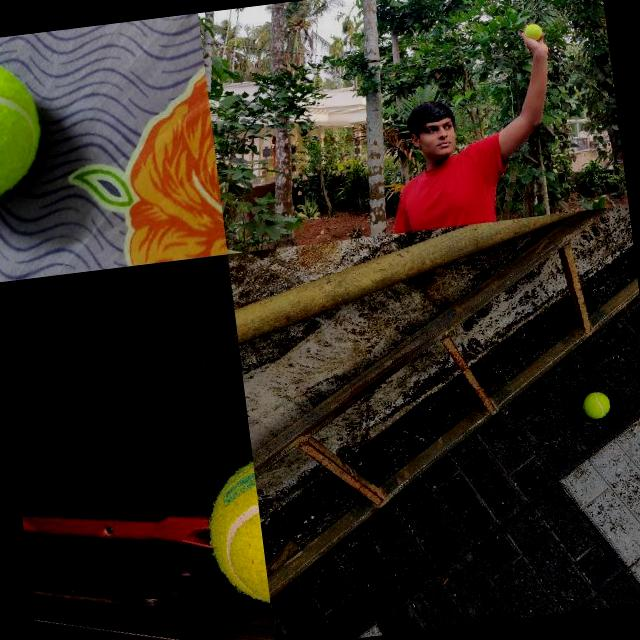Tennis Ball: (197, 453, 270, 614), (0, 51, 49, 200), (580, 390, 611, 420), (524, 22, 542, 41)
